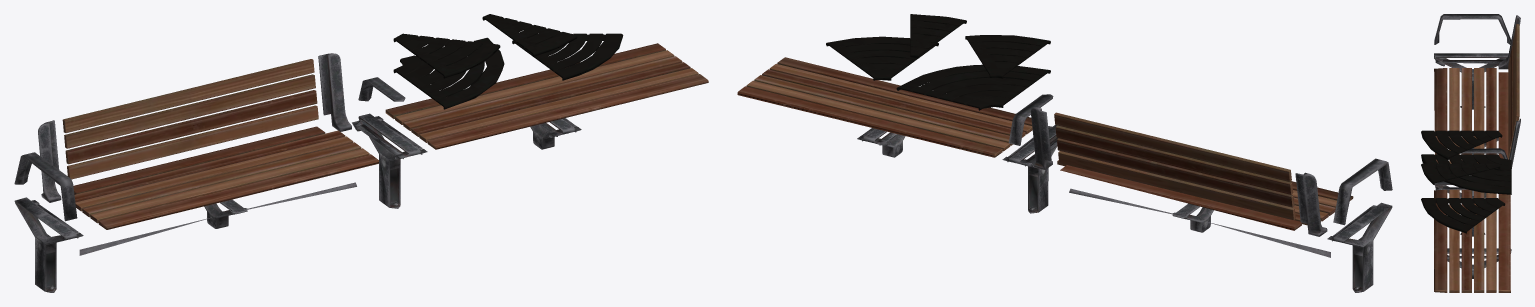
Rendered from modular-street-seating.lod1.glb.
3 views of the same model, side by side, from view 1: azimuth 30°, elevation 25°; view 2: azimuth 150°, elevation 25°; view 3: azimuth 270°, elevation 25° (orthographic). The views are drawn at different scales.
Visible parts, largest first — view 1: seat_back, seat, seat_bench, connector_90, legs_double, connector_45, legs_single, connector_60, connector_30, back_support_l, arm_rest_01, back_support_r (+4 smaller); view 2: seat_bench, seat_back, connector_90, seat, connector_60, legs_single, connector_45, legs_double, connector_30, arm_rest_01, back_support_r, back_support_l (+4 smaller); view 3: seat_bench, seat, connector_90, connector_60, connector_45, seat_back, connector_30, legs_single, arm_rest_01, arm_rest_02, back_support_r, legs_double (+2 smaller).
Boxes of the visible parts, left/top/right/bottom form: seat_back: left=62, top=59, right=318, bottom=179; seat: left=73, top=126, right=378, bottom=229; seat_bench: left=385, top=43, right=708, bottom=149; connector_90: left=393, top=37, right=504, bottom=109; legs_double: left=352, top=113, right=427, bottom=208; connector_45: left=393, top=33, right=500, bottom=78; legs_single: left=14, top=197, right=83, bottom=292; connector_60: left=512, top=33, right=623, bottom=80; connector_30: left=482, top=14, right=577, bottom=56; back_support_l: left=318, top=53, right=351, bottom=131; arm_rest_01: left=14, top=152, right=77, bottom=221; back_support_r: left=38, top=120, right=61, bottom=202; seat_bench: left=737, top=57, right=1032, bottom=157; seat_back: left=1054, top=112, right=1295, bottom=220; connector_90: left=896, top=64, right=1050, bottom=110; seat: left=1057, top=160, right=1353, bottom=230; connector_60: left=826, top=36, right=938, bottom=80; legs_single: left=1327, top=202, right=1392, bottom=292; connector_45: left=965, top=35, right=1050, bottom=78; legs_double: left=1002, top=125, right=1058, bottom=213; connector_30: left=910, top=14, right=966, bottom=57; arm_rest_01: left=1333, top=158, right=1392, bottom=225; back_support_r: left=1295, top=172, right=1327, bottom=236; back_support_l: left=1030, top=107, right=1052, bottom=169; seat_bench: left=1434, top=189, right=1510, bottom=292; seat: left=1434, top=68, right=1509, bottom=163; connector_90: left=1421, top=154, right=1511, bottom=194; connector_60: left=1421, top=198, right=1505, bottom=233; connector_45: left=1421, top=130, right=1502, bottom=160; seat_back: left=1508, top=24, right=1519, bottom=157; connector_30: left=1421, top=163, right=1500, bottom=184; legs_single: left=1434, top=53, right=1508, bottom=109; arm_rest_01: left=1434, top=14, right=1511, bottom=44; arm_rest_02: left=1460, top=148, right=1507, bottom=159; back_support_r: left=1498, top=15, right=1520, bottom=69; legs_double: left=1434, top=181, right=1486, bottom=236.
Bounding box in the file's own units: 4.34 × 0.95 × 0.7704.
4 materials, 4 textured.
